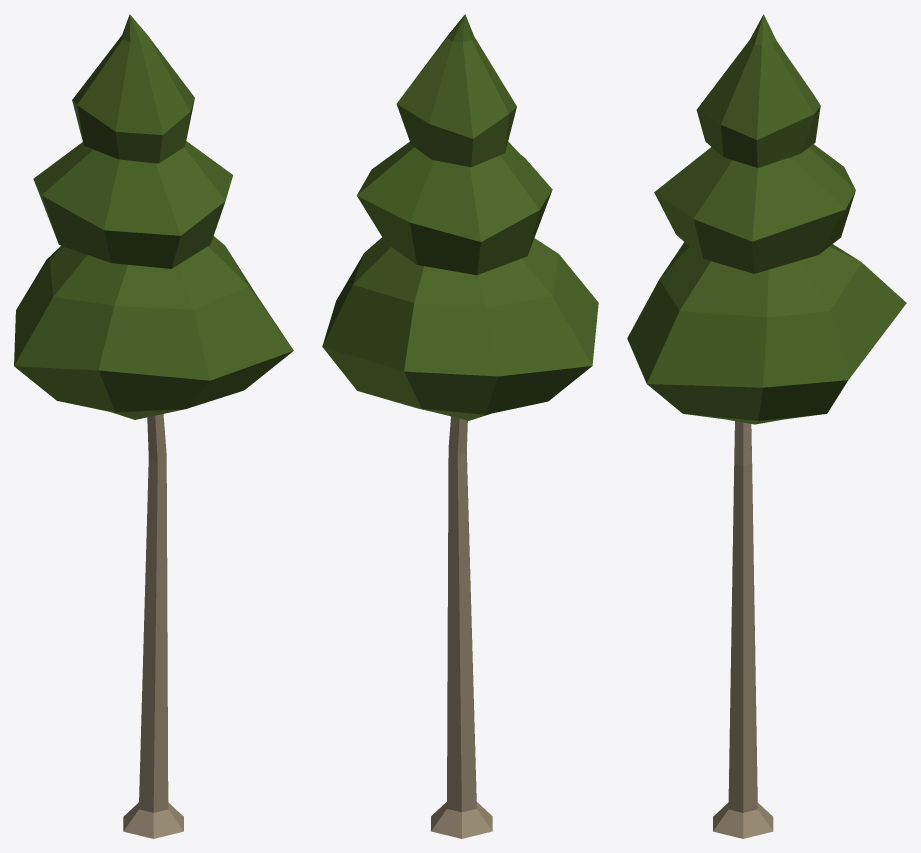
Rendered from SM_Tree_08.fbx.
3 renders of one model, left to right at view 1: azimuth 30°, elevation 25°; view 2: azimuth 150°, elevation 25°; view 3: azimuth 270°, elevation 25°, orthographic. The views are drawn at different scales.
Visible parts, largest first — view 1: SM_Tree_08; view 2: SM_Tree_08; view 3: SM_Tree_08.
Part boxes in pixels (left/top/right/bottom): SM_Tree_08: left=14, top=14, right=293, bottom=838; SM_Tree_08: left=322, top=14, right=598, bottom=838; SM_Tree_08: left=627, top=14, right=906, bottom=838.
Size of the model in its own units: 168 by 524 by 165.
2 materials, 2 textured.
